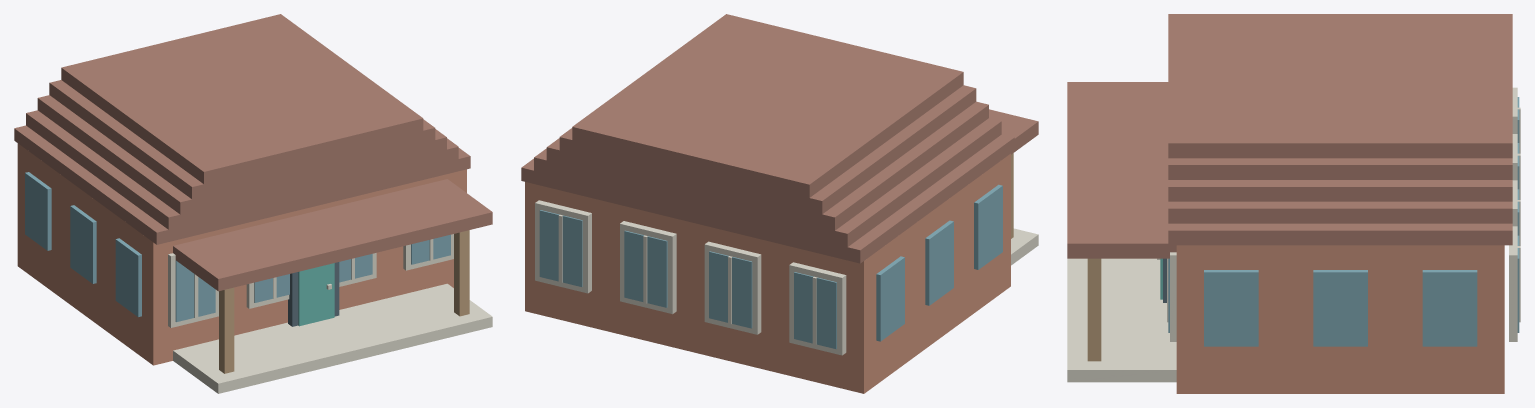
The model's file is voxel-city-districts-porch-bungalow-fc156ce6__24767.glb.
3 views of the same model, side by side, from view 1: azimuth 30°, elevation 25°; view 2: azimuth 150°, elevation 25°; view 3: azimuth 270°, elevation 25° (orthographic). The views are drawn at different scales.
Visible parts, largest first — view 1: porch-bungalow-roof, porch-bungalow-brick, porch-bungalow-concrete, porch-bungalow-glass, porch-bungalow-wood, porch-bungalow-accent, porch-bungalow-dark; view 2: porch-bungalow-roof, porch-bungalow-brick, porch-bungalow-glass, porch-bungalow-concrete; view 3: porch-bungalow-roof, porch-bungalow-brick, porch-bungalow-concrete, porch-bungalow-glass, porch-bungalow-wood.
Part boxes in pixels (<box>): porch-bungalow-roof: <box>14,14,492,291</box>; porch-bungalow-brick: <box>17,143,466,365</box>; porch-bungalow-concrete: <box>168,234,492,393</box>; porch-bungalow-glass: <box>25,172,450,322</box>; porch-bungalow-wood: <box>219,230,469,373</box>; porch-bungalow-accent: <box>298,263,334,326</box>; porch-bungalow-dark: <box>288,262,339,326</box>; porch-bungalow-roof: <box>521,14,1038,263</box>; porch-bungalow-brick: <box>525,153,1010,393</box>; porch-bungalow-glass: <box>539,184,1002,348</box>; porch-bungalow-concrete: <box>535,200,1038,355</box>; porch-bungalow-roof: <box>1067,14,1512,258</box>; porch-bungalow-brick: <box>1176,245,1504,393</box>; porch-bungalow-concrete: <box>1067,87,1520,382</box>; porch-bungalow-glass: <box>1168,97,1519,346</box>; porch-bungalow-wood: <box>1087,258,1101,361</box>.
Size of the model in its own units: 8.2 by 4.5 by 8.3.
